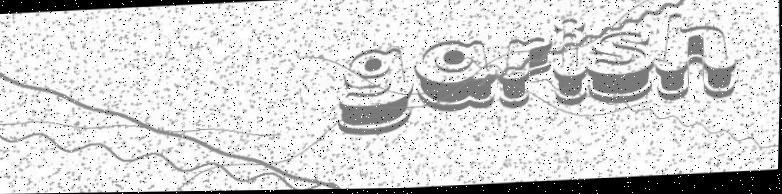a: (412, 31, 502, 111)
g: (336, 46, 417, 146)
h: (653, 9, 741, 121)
i: (555, 21, 593, 113)
r: (497, 35, 556, 111)
s: (584, 29, 658, 112)
